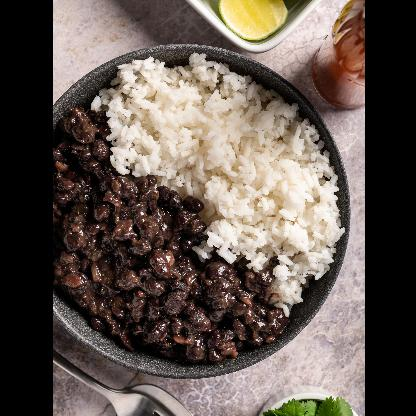black beans: (53, 108, 285, 364)
white rice: (90, 53, 344, 315)
